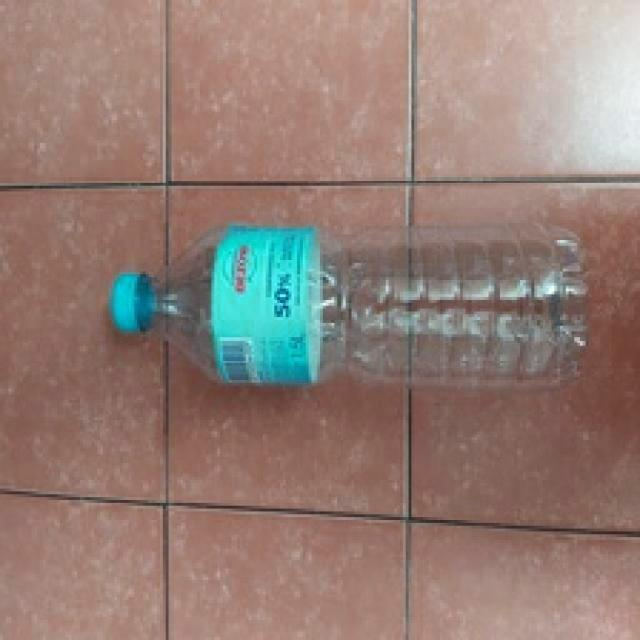bottle: (109, 222, 591, 392)
